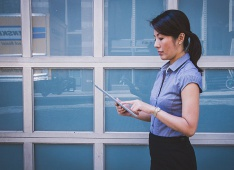female: (149, 11, 194, 63)
